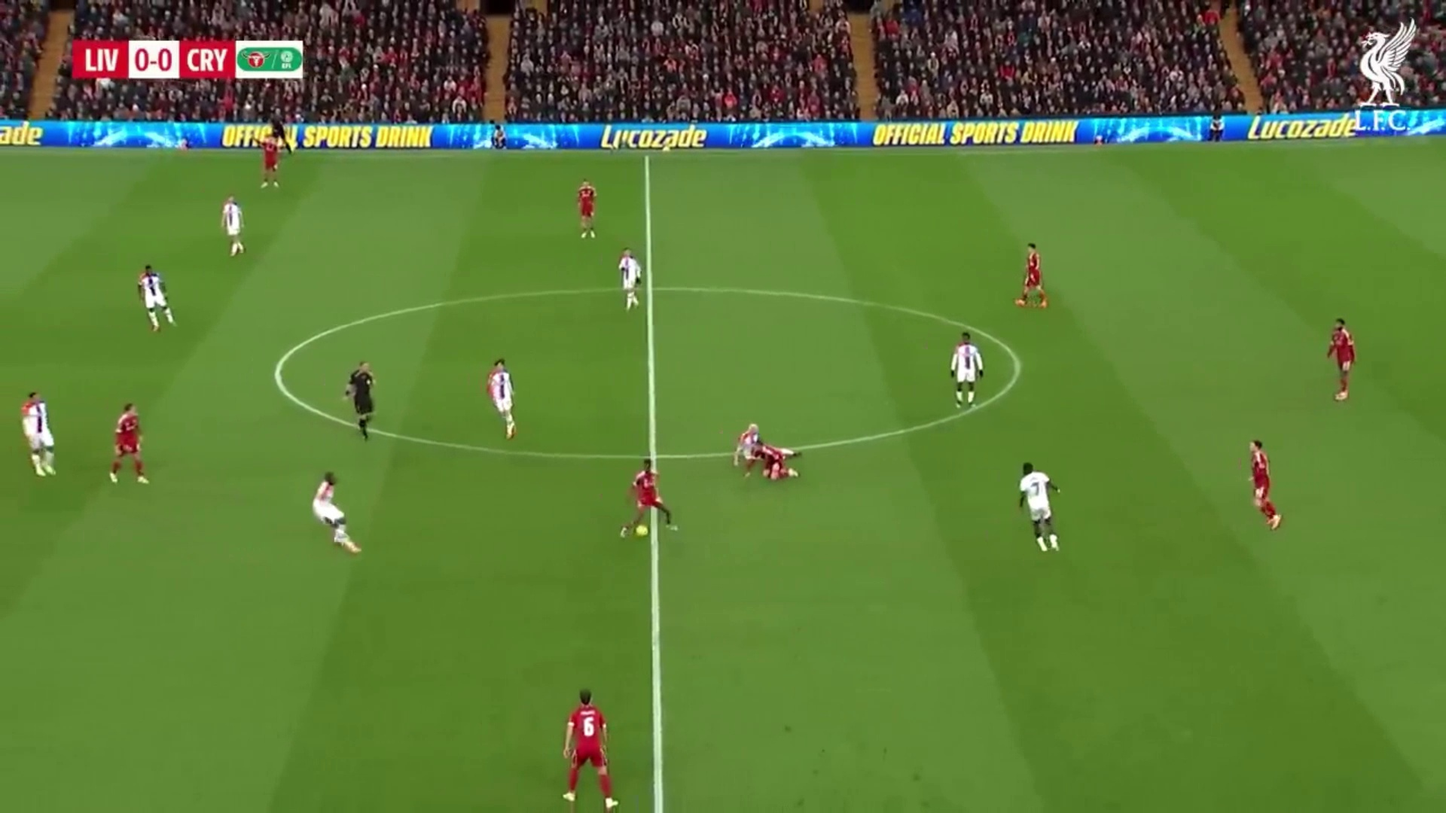player: (561, 689, 618, 812), (618, 460, 675, 541), (312, 474, 364, 555), (1018, 463, 1062, 555), (109, 402, 150, 486), (20, 390, 58, 479), (738, 428, 796, 482), (1250, 439, 1282, 531), (735, 423, 782, 482), (486, 357, 519, 440), (1326, 318, 1357, 405), (137, 262, 175, 332), (1014, 243, 1051, 310), (950, 333, 983, 408), (346, 362, 375, 444), (1019, 244, 1045, 308), (735, 423, 764, 480), (220, 196, 246, 259), (257, 131, 283, 190), (618, 248, 641, 311), (576, 179, 599, 240), (758, 449, 792, 482)
